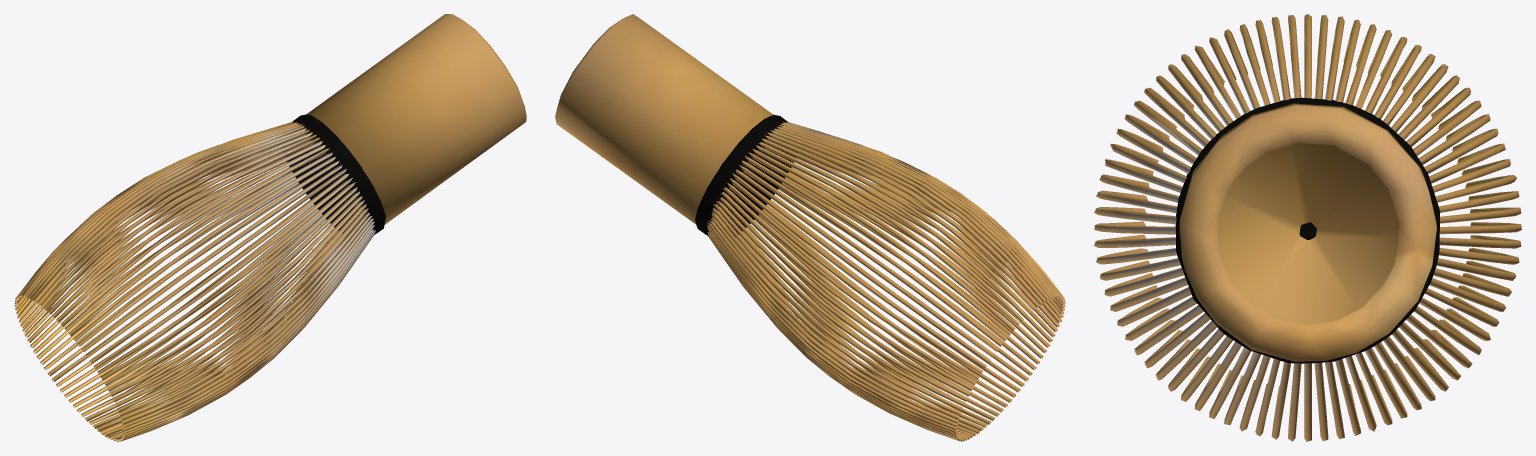
3 renders of one model, left to right at view 1: azimuth 30°, elevation 25°; view 2: azimuth 150°, elevation 25°; view 3: azimuth 270°, elevation 25°, orthographic. The views are drawn at different scales.
Parts seen in each view (by area): view 1: bamboo_whisk__body; view 2: bamboo_whisk__body; view 3: bamboo_whisk__body.
Part boxes in pixels (x1,y1,x2,y2): bamboo_whisk__body: [14, 14, 526, 441]; bamboo_whisk__body: [555, 14, 1065, 441]; bamboo_whisk__body: [1094, 14, 1521, 441].
Bounding box in the file's own units: 0.1129 × 0.0748 × 0.0468.
2 materials, 1 textured.
